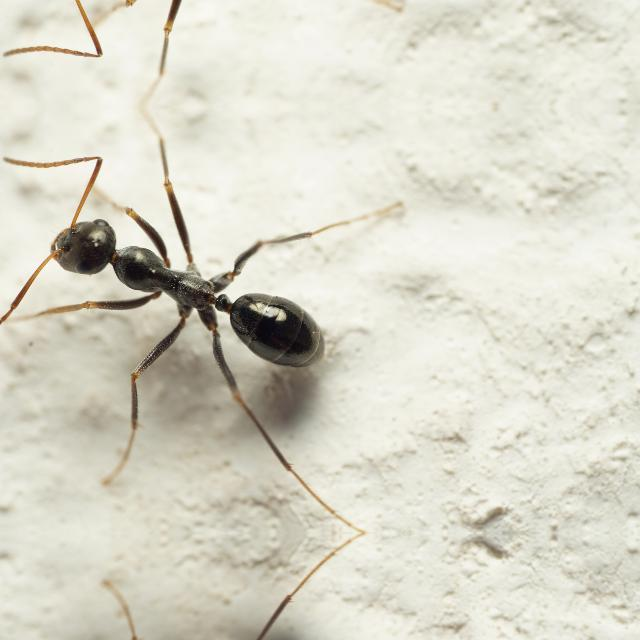Cataglyphis: (9, 186, 354, 390)
